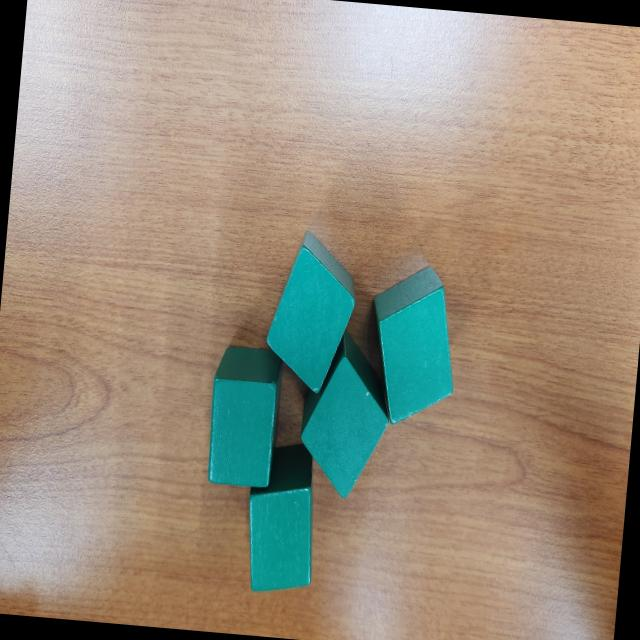green: (294, 326, 396, 503), (260, 226, 360, 396), (362, 260, 462, 428), (240, 438, 323, 596), (202, 342, 284, 492)
